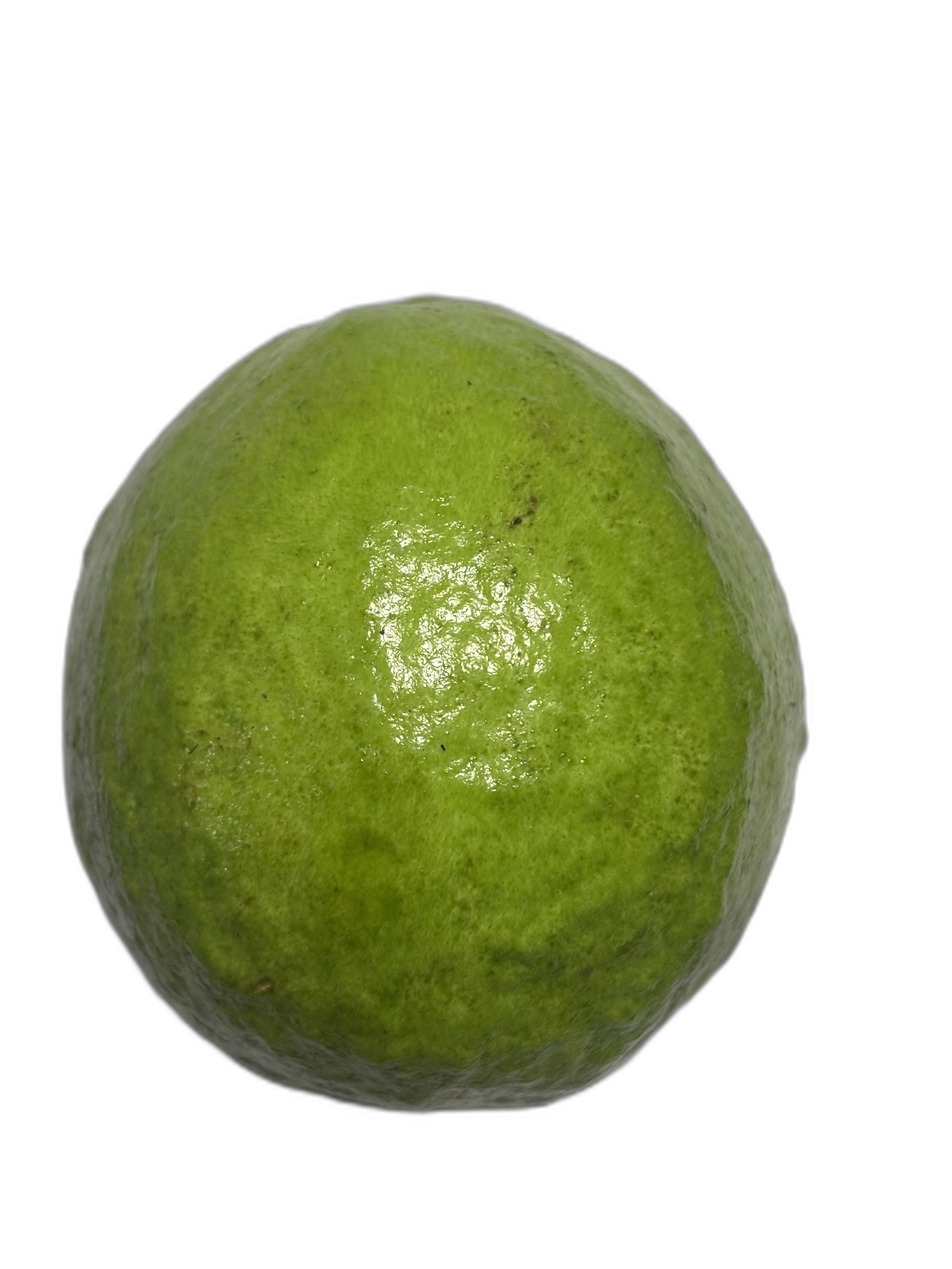guava: (105, 294, 859, 1167)
